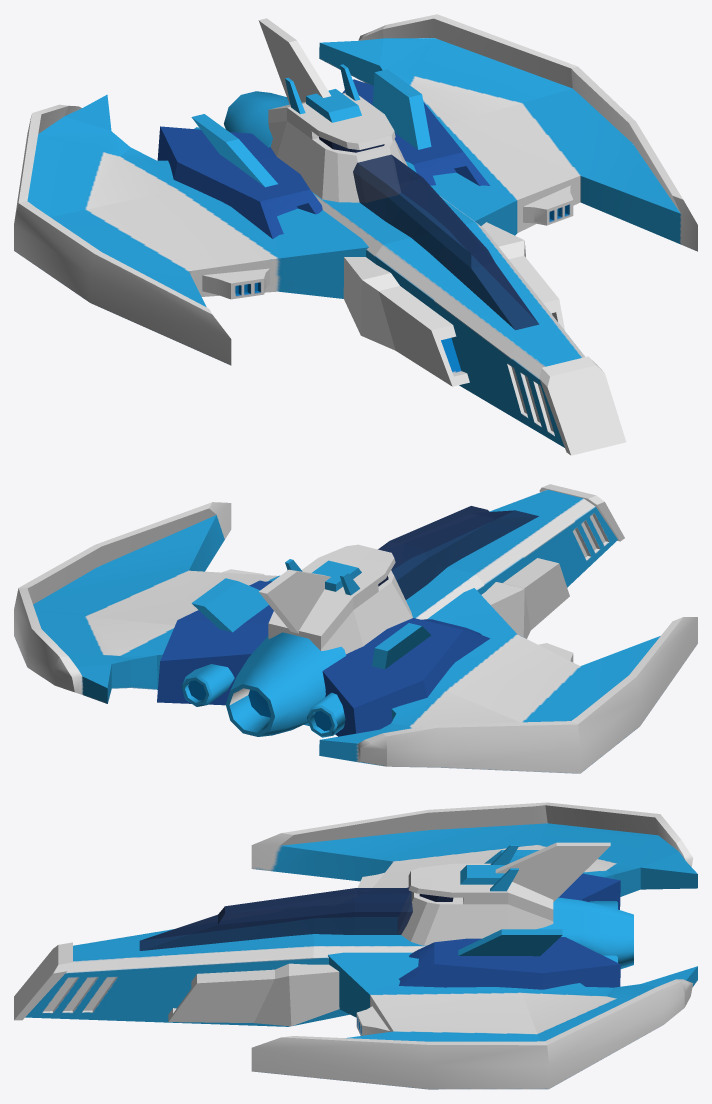
The model's file is craft.fbx.
3 views of the same model, one above another, from view 1: azimuth 30°, elevation 25°; view 2: azimuth 150°, elevation 25°; view 3: azimuth 270°, elevation 25° (orthographic). The views are drawn at different scales.
Visible parts, largest first — view 1: S_01:S_01; view 2: S_01:S_01; view 3: S_01:S_01.
Boxes of the visible parts, x1,y1,x2,y2 form: S_01:S_01: [14, 14, 697, 455]; S_01:S_01: [14, 484, 697, 773]; S_01:S_01: [14, 802, 697, 1089].
Size of the model in its own units: 3106 by 966 by 3654.
2 materials, 1 textured.
